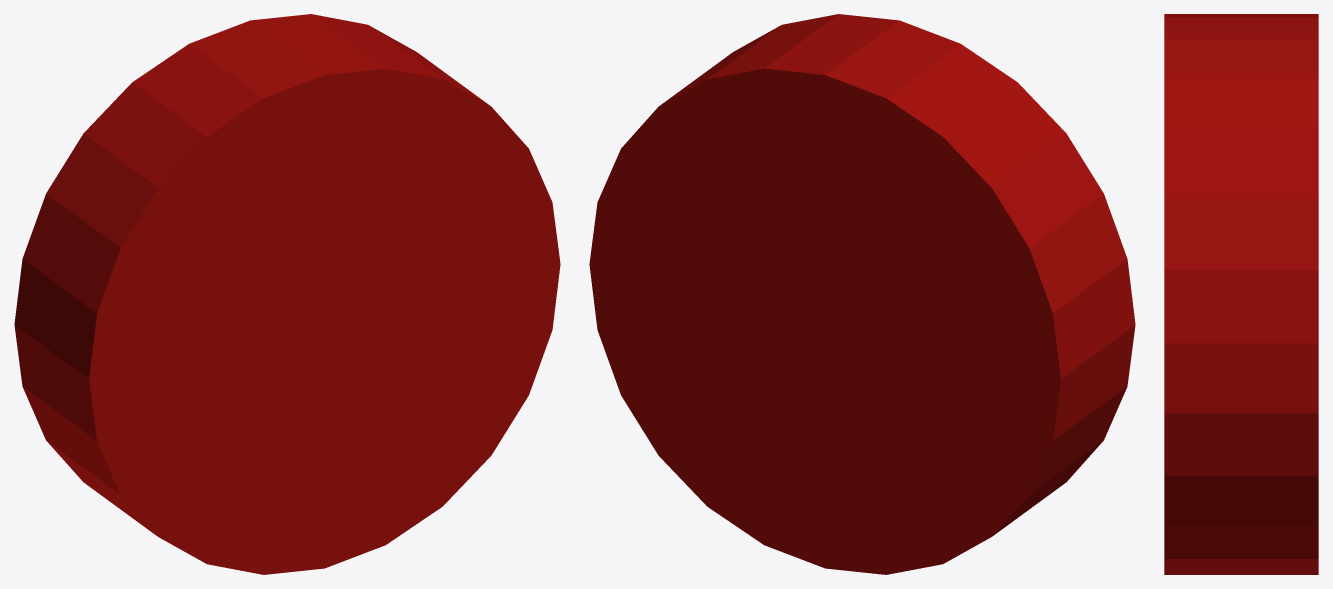
Rendered from Part_MCBLamp.obj.
The picture shows the model from 3 angles, left to right: view 1: azimuth 30°, elevation 25°; view 2: azimuth 150°, elevation 25°; view 3: azimuth 270°, elevation 25°; orthographic projection. The views are drawn at different scales.
Visible parts, largest first — view 1: MCBLamp; view 2: MCBLamp; view 3: MCBLamp.
Boxes of the visible parts, left/top/right/bottom form: MCBLamp: left=14, top=14, right=560, bottom=574; MCBLamp: left=589, top=14, right=1135, bottom=574; MCBLamp: left=1164, top=14, right=1318, bottom=574.
Size of the model in its own units: 0.073 by 0.073 by 0.02.
